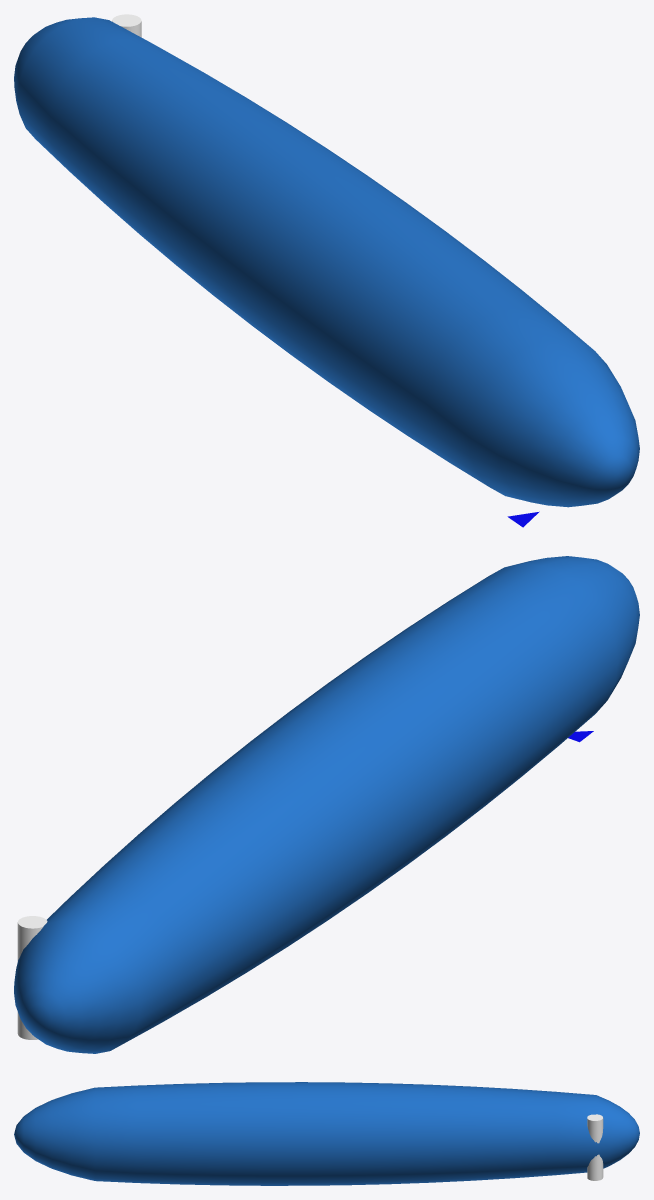
File: hand_left.obj
The picture shows the model from 3 angles, top to bottom: view 1: azimuth 30°, elevation 25°; view 2: azimuth 150°, elevation 25°; view 3: azimuth 270°, elevation 25°; orthographic projection. The views are drawn at different scales.
Visible parts, largest first — view 1: Mesh1 Component_4_1 Component_23_1 Model; view 2: Mesh1 Component_4_1 Component_23_1 Model, Mesh2 Component_23_1 Model; view 3: Mesh1 Component_4_1 Component_23_1 Model, Mesh2 Component_23_1 Model.
Part boxes in pixels (bbox=[...]): Mesh1 Component_4_1 Component_23_1 Model: bbox=[14, 17, 639, 507]; Mesh1 Component_4_1 Component_23_1 Model: bbox=[14, 556, 639, 1053]; Mesh2 Component_23_1 Model: bbox=[17, 916, 47, 1039]; Mesh1 Component_4_1 Component_23_1 Model: bbox=[14, 1082, 639, 1185]; Mesh2 Component_23_1 Model: bbox=[587, 1114, 603, 1180].
Size of the model in its own units: 0.0325 by 0.0326 by 0.1951.
